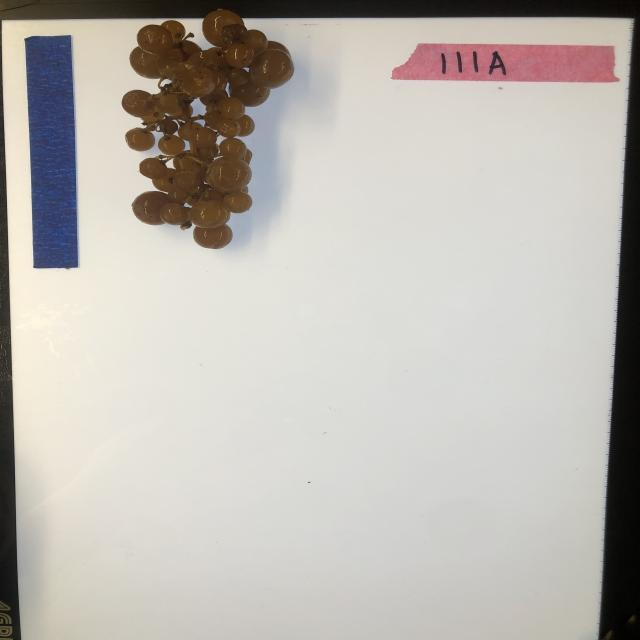grape_cluster: (123, 7, 297, 252)
index: (390, 44, 623, 83)
measure_label: (24, 34, 79, 268)
